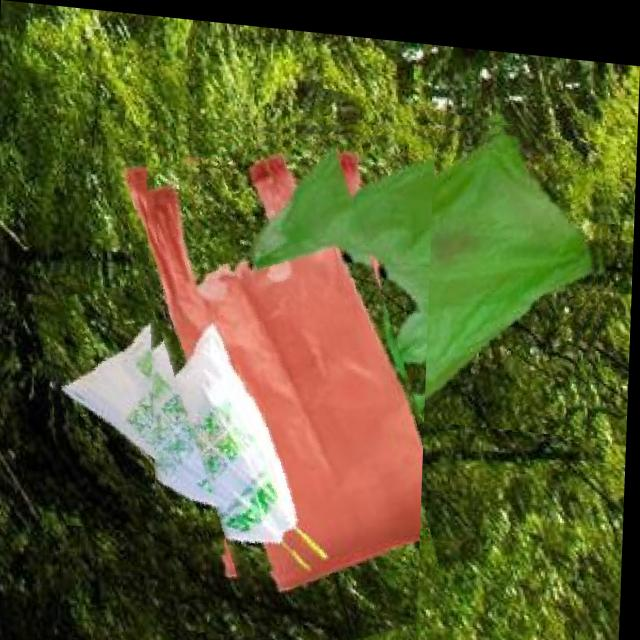litter: (130, 103, 434, 640), (287, 85, 615, 426), (39, 260, 263, 538)
